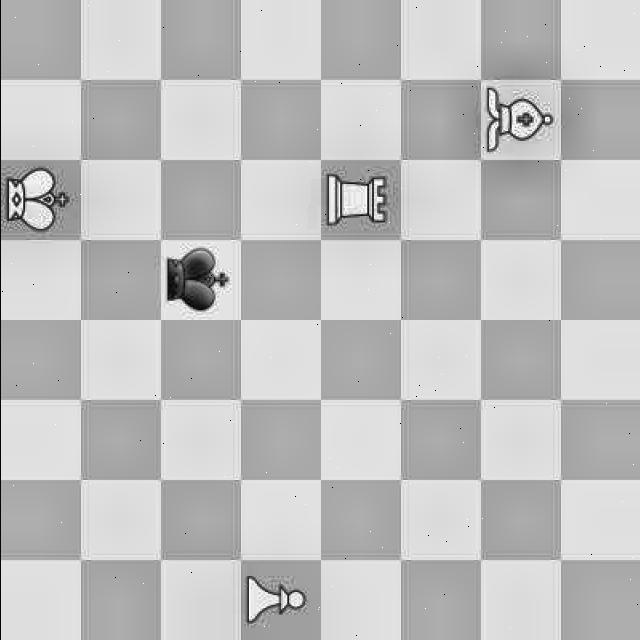black king: (158, 242, 234, 316)
white bishop: (488, 81, 560, 156)
white king: (0, 162, 82, 232)
white pawn: (240, 568, 312, 634)
white rook: (324, 168, 392, 240)
